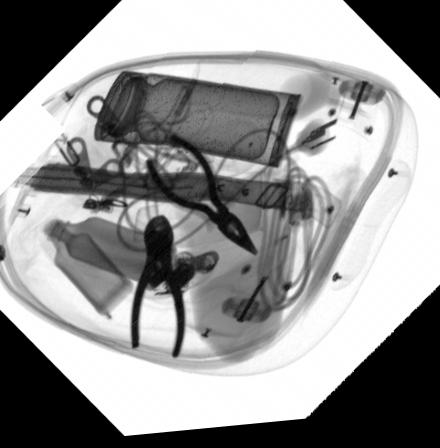Pliers: (143, 136, 260, 261), (130, 217, 186, 363)
